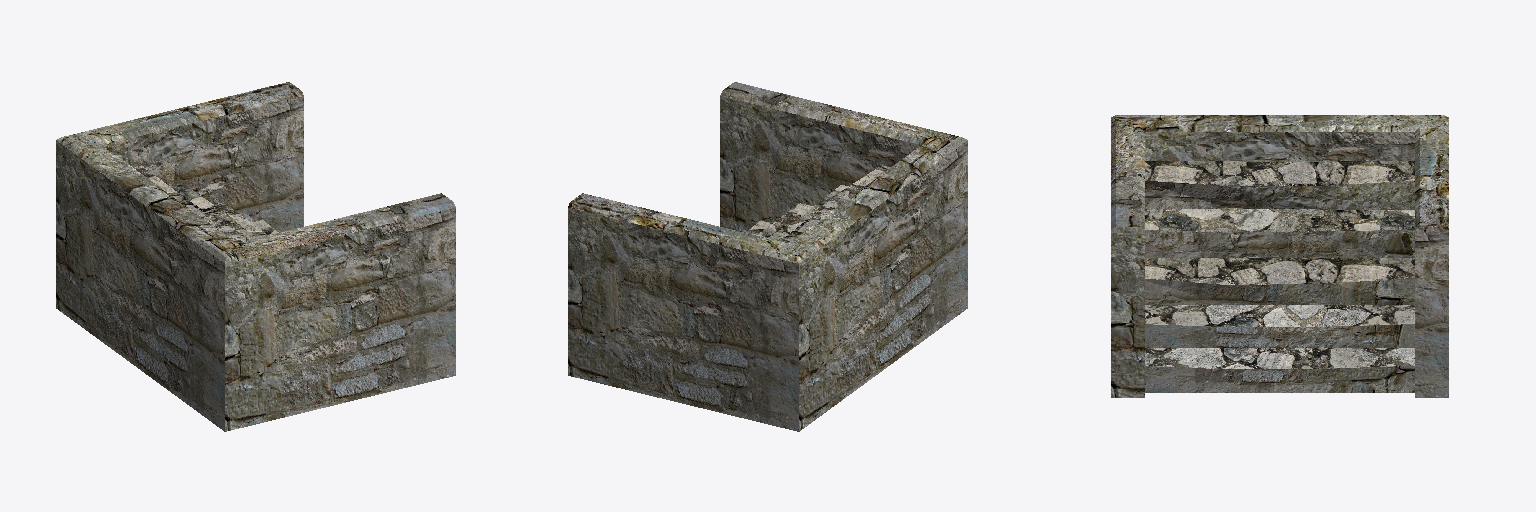
The picture shows the model from 3 angles: view 1: azimuth 30°, elevation 25°; view 2: azimuth 150°, elevation 25°; view 3: azimuth 270°, elevation 25°; orthographic projection.
Visible parts, largest first — view 1: C_Ext01, Line01; view 2: C_Ext01, Line01; view 3: Object01dg, C_Ext01, Line01.
Boxes of the visible parts, box(x1,y1,x2,y2) form: C_Ext01: box(56, 82, 455, 431); Line01: box(133, 165, 278, 242); C_Ext01: box(568, 82, 967, 431); Line01: box(746, 165, 890, 242); Object01dg: box(1145, 180, 1414, 392); C_Ext01: box(1111, 115, 1448, 397); Line01: box(1145, 161, 1414, 368).
Size of the model in its own units: 1.2 by 0.8515 by 1.52.
2 materials, 2 textured.